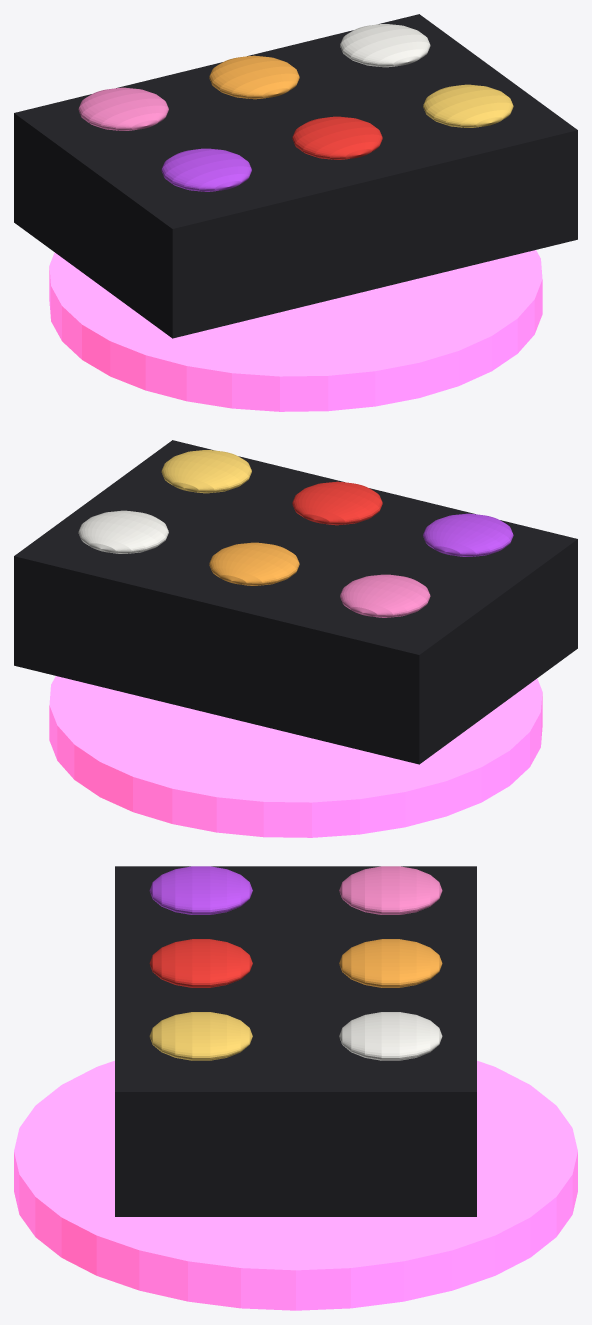
Rendered from beauty_eyeshadow_palette.glb.
3 renders of one model, top to bottom at view 1: azimuth 30°, elevation 25°; view 2: azimuth 150°, elevation 25°; view 3: azimuth 270°, elevation 25°, orthographic. The views are drawn at different scales.
Visible parts, largest first — view 1: 03_06_Popular_Beauty_Eyeshadow_Palette_part_01, 03_06_Popular_Beauty_Eyeshadow_Palette_ROOT_base, 03_06_Popular_Beauty_Eyeshadow_Palette_part_03, 03_06_Popular_Beauty_Eyeshadow_Palette_part_04, 03_06_Popular_Beauty_Eyeshadow_Palette_part_07, 03_06_Popular_Beauty_Eyeshadow_Palette_part_05, 03_06_Popular_Beauty_Eyeshadow_Palette_part_06, 03_06_Popular_Beauty_Eyeshadow_Palette_part_02; view 2: 03_06_Popular_Beauty_Eyeshadow_Palette_part_01, 03_06_Popular_Beauty_Eyeshadow_Palette_ROOT_base, 03_06_Popular_Beauty_Eyeshadow_Palette_part_02, 03_06_Popular_Beauty_Eyeshadow_Palette_part_05, 03_06_Popular_Beauty_Eyeshadow_Palette_part_06, 03_06_Popular_Beauty_Eyeshadow_Palette_part_04, 03_06_Popular_Beauty_Eyeshadow_Palette_part_07, 03_06_Popular_Beauty_Eyeshadow_Palette_part_03; view 3: 03_06_Popular_Beauty_Eyeshadow_Palette_part_01, 03_06_Popular_Beauty_Eyeshadow_Palette_ROOT_base, 03_06_Popular_Beauty_Eyeshadow_Palette_part_02, 03_06_Popular_Beauty_Eyeshadow_Palette_part_03, 03_06_Popular_Beauty_Eyeshadow_Palette_part_04, 03_06_Popular_Beauty_Eyeshadow_Palette_part_05, 03_06_Popular_Beauty_Eyeshadow_Palette_part_06, 03_06_Popular_Beauty_Eyeshadow_Palette_part_07.
Part boxes in pixels (x1,y1,x2,y2): 03_06_Popular_Beauty_Eyeshadow_Palette_part_01: [14, 14, 577, 338]; 03_06_Popular_Beauty_Eyeshadow_Palette_ROOT_base: [49, 250, 542, 411]; 03_06_Popular_Beauty_Eyeshadow_Palette_part_03: [161, 148, 251, 191]; 03_06_Popular_Beauty_Eyeshadow_Palette_part_04: [209, 55, 299, 99]; 03_06_Popular_Beauty_Eyeshadow_Palette_part_07: [423, 84, 513, 127]; 03_06_Popular_Beauty_Eyeshadow_Palette_part_05: [292, 116, 382, 159]; 03_06_Popular_Beauty_Eyeshadow_Palette_part_06: [340, 24, 430, 67]; 03_06_Popular_Beauty_Eyeshadow_Palette_part_02: [78, 87, 168, 130]; 03_06_Popular_Beauty_Eyeshadow_Palette_part_01: [14, 440, 577, 764]; 03_06_Popular_Beauty_Eyeshadow_Palette_ROOT_base: [49, 676, 542, 837]; 03_06_Popular_Beauty_Eyeshadow_Palette_part_02: [340, 574, 430, 617]; 03_06_Popular_Beauty_Eyeshadow_Palette_part_05: [292, 481, 382, 525]; 03_06_Popular_Beauty_Eyeshadow_Palette_part_06: [78, 510, 168, 553]; 03_06_Popular_Beauty_Eyeshadow_Palette_part_04: [209, 542, 299, 585]; 03_06_Popular_Beauty_Eyeshadow_Palette_part_07: [161, 450, 251, 493]; 03_06_Popular_Beauty_Eyeshadow_Palette_part_03: [423, 513, 513, 556]; 03_06_Popular_Beauty_Eyeshadow_Palette_part_01: [115, 866, 476, 1216]; 03_06_Popular_Beauty_Eyeshadow_Palette_ROOT_base: [14, 1060, 577, 1310]; 03_06_Popular_Beauty_Eyeshadow_Palette_part_02: [339, 866, 442, 914]; 03_06_Popular_Beauty_Eyeshadow_Palette_part_03: [149, 866, 252, 914]; 03_06_Popular_Beauty_Eyeshadow_Palette_part_04: [339, 939, 442, 987]; 03_06_Popular_Beauty_Eyeshadow_Palette_part_05: [149, 939, 252, 987]; 03_06_Popular_Beauty_Eyeshadow_Palette_part_06: [339, 1012, 442, 1060]; 03_06_Popular_Beauty_Eyeshadow_Palette_part_07: [149, 1012, 252, 1060].
Bounding box in the file's own units: 0.76 × 0.3562 × 0.76.
